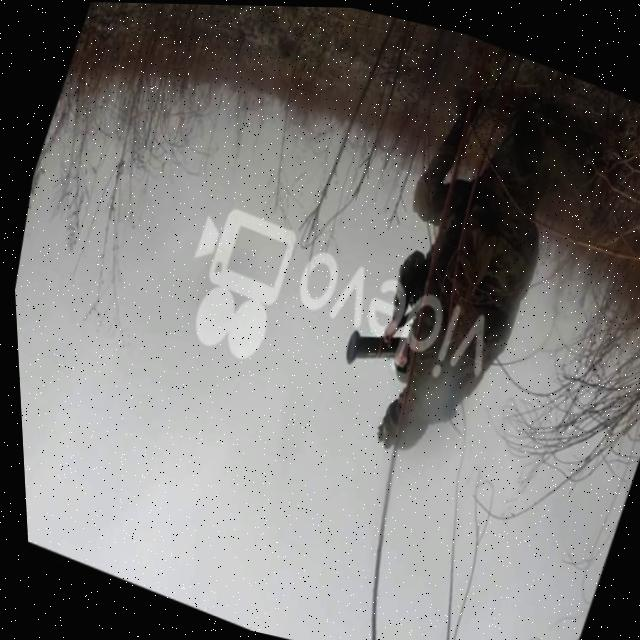rocket: (332, 311, 409, 385)
